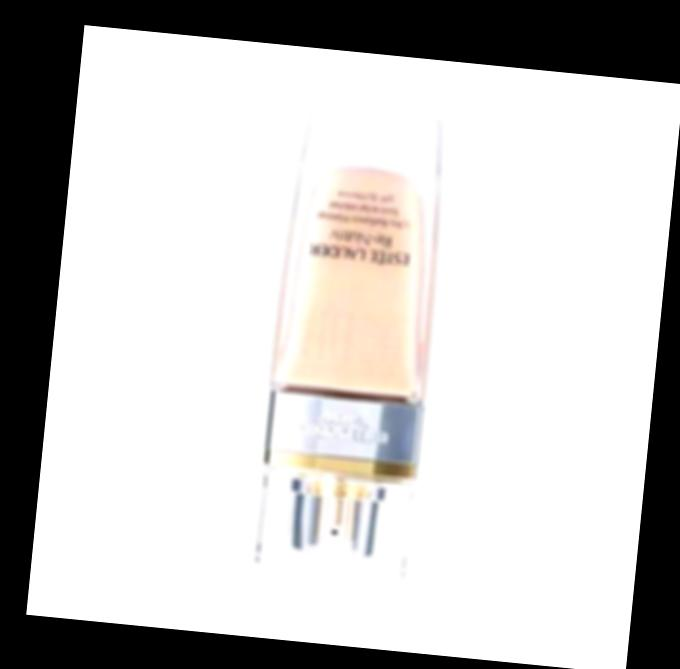cosmetic: (257, 103, 450, 578)
